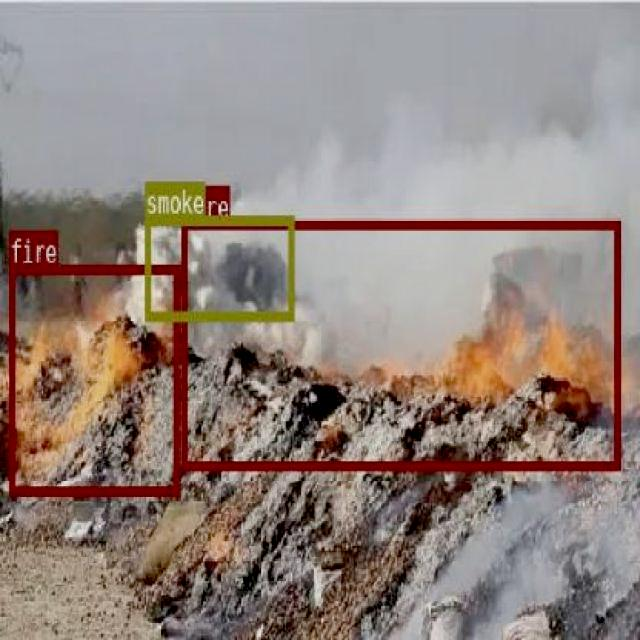fire: (180, 218, 620, 467), (9, 262, 178, 496)
smoke: (144, 215, 293, 318)
